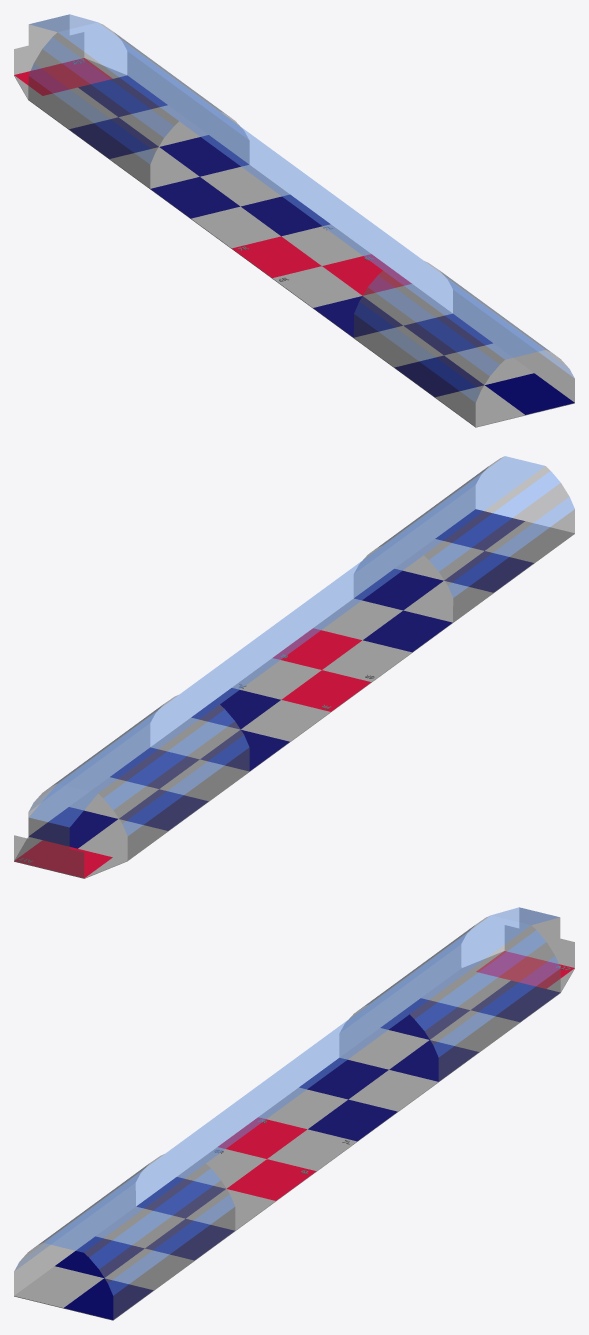
File: full_md_b767.gltf
The picture shows the model from 3 angles, top to bottom: view 1: azimuth 30°, elevation 25°; view 2: azimuth 150°, elevation 25°; view 3: azimuth 330°, elevation 25°; orthographic projection.
Parts seen in each view (by area): view 1: root; view 2: root; view 3: root.
Part boxes in pixels (left/top/right/bottom): root: left=14, top=14, right=574, bottom=427; root: left=14, top=456, right=574, bottom=878; root: left=14, top=907, right=574, bottom=1320.
Bounding box in the file's own units: 4.47 × 2.62 × 37.16.
